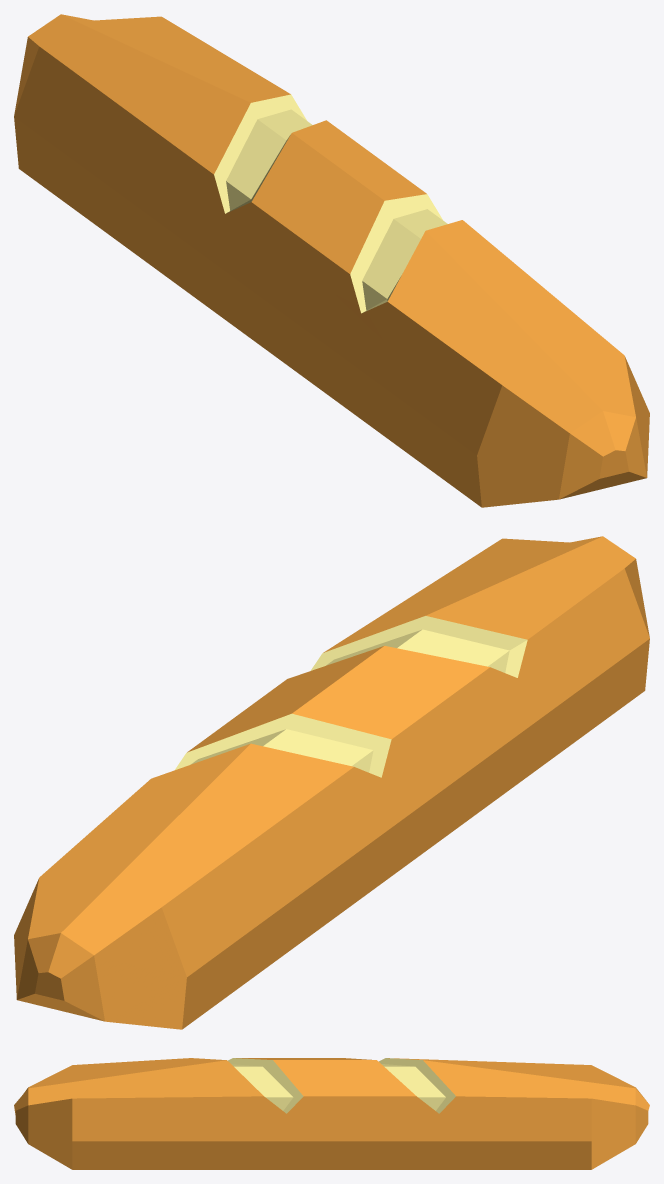
Rendered from bread1.fbx.
3 views of the same model, one above another, from view 1: azimuth 30°, elevation 25°; view 2: azimuth 150°, elevation 25°; view 3: azimuth 270°, elevation 25° (orthographic). The views are drawn at different scales.
Parts seen in each view (by area): view 1: Baguette_01; view 2: Baguette_01; view 3: Baguette_01.
Boxes of the visible parts, <box> form: Baguette_01: <box>14,14,649,507</box>; Baguette_01: <box>14,536,649,1029</box>; Baguette_01: <box>14,1058,649,1169</box>.
Size of the model in its own units: 87.27 by 75.25 by 496.
